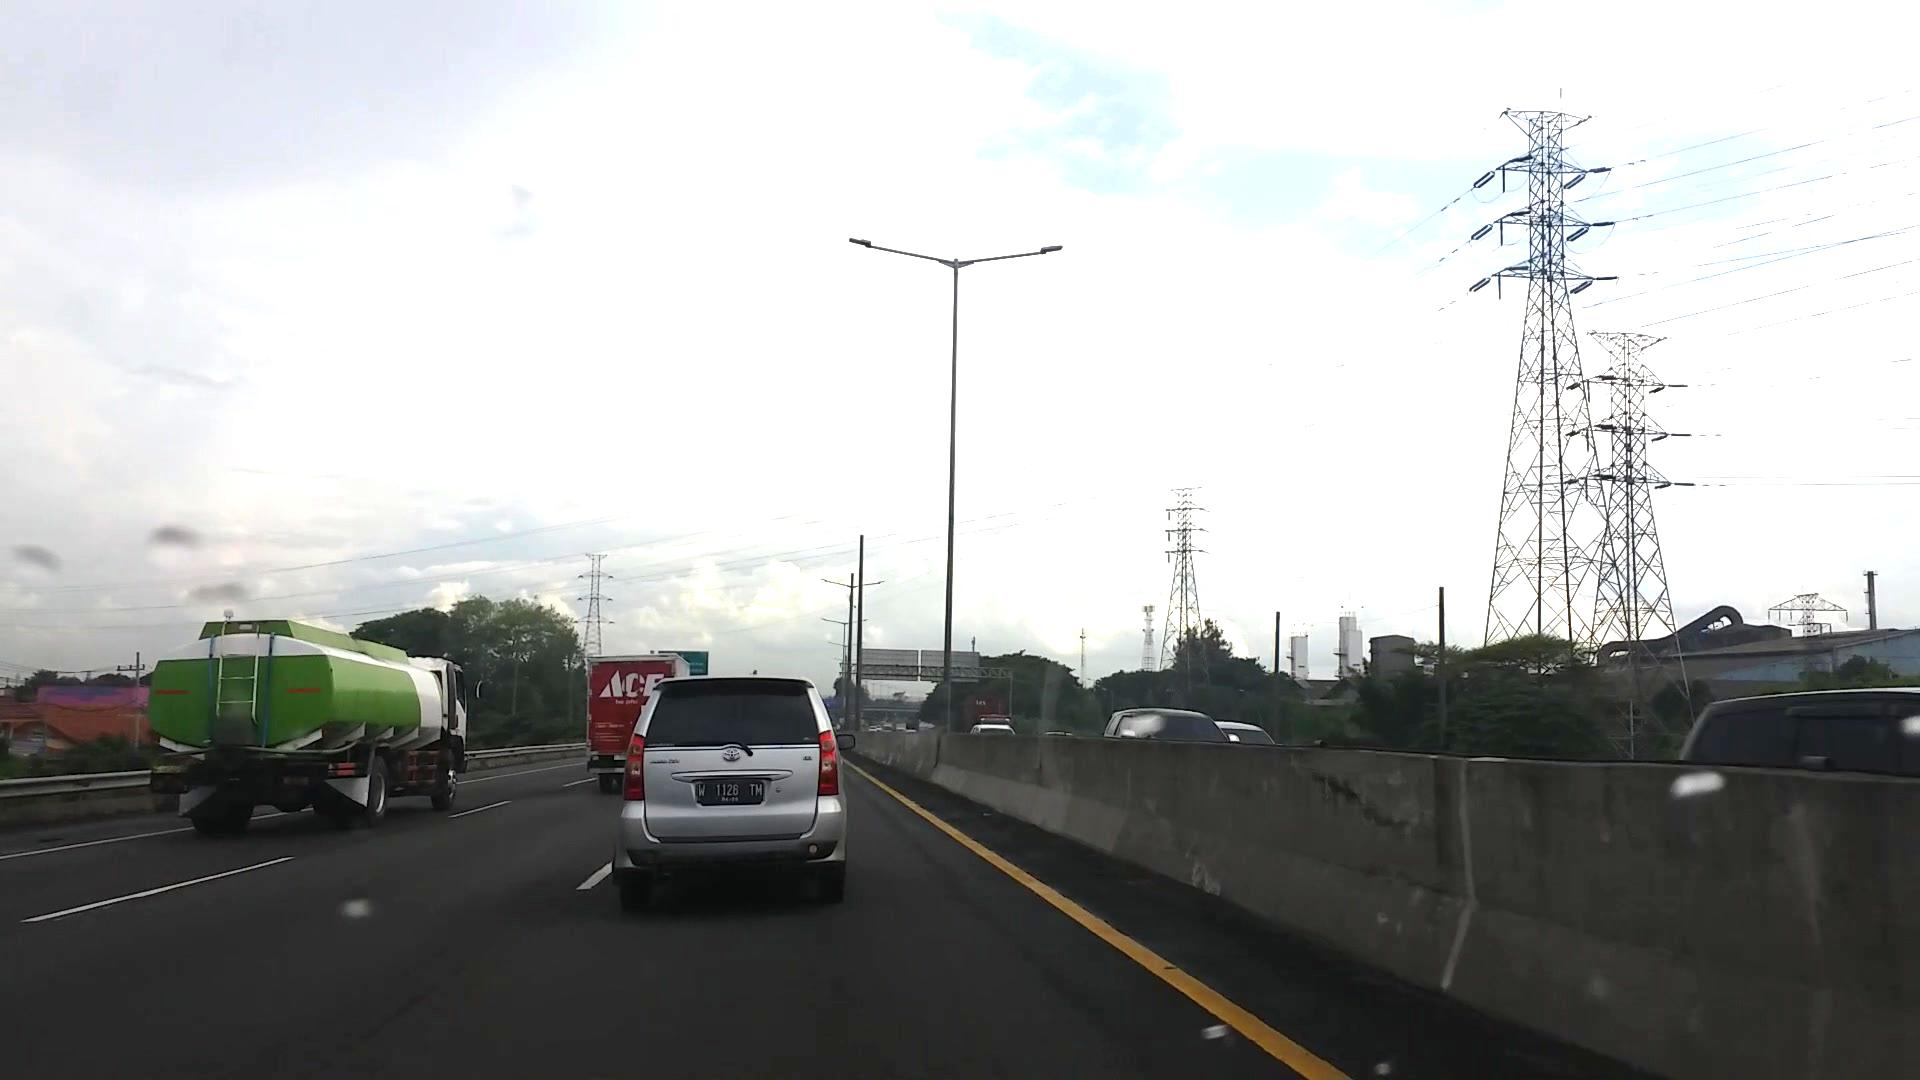plate_positive: (698, 781, 765, 804)
